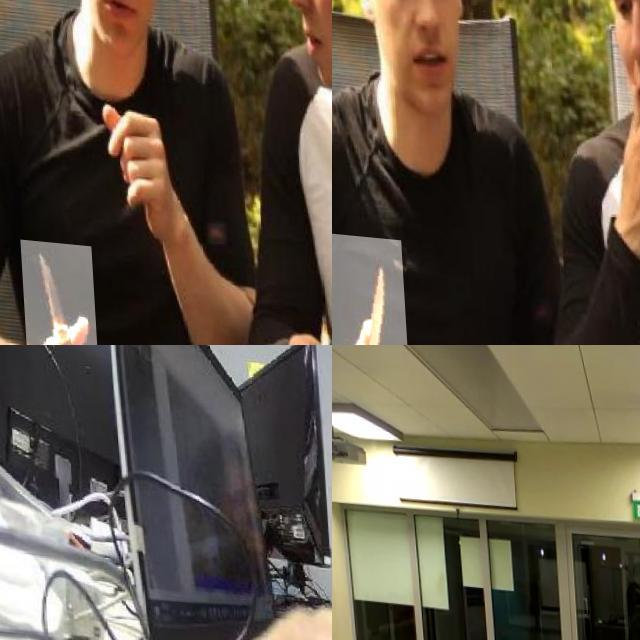-: (332, 231, 405, 345), (14, 238, 91, 345)
